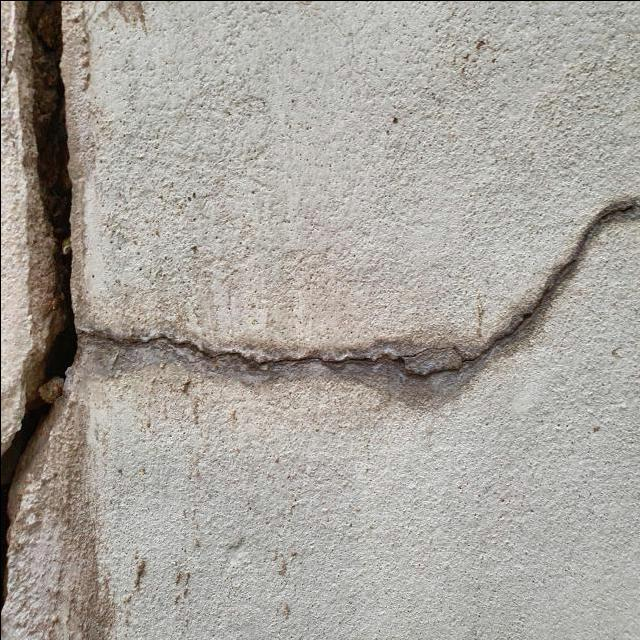SurfaceCrack: (3, 168, 640, 429)
